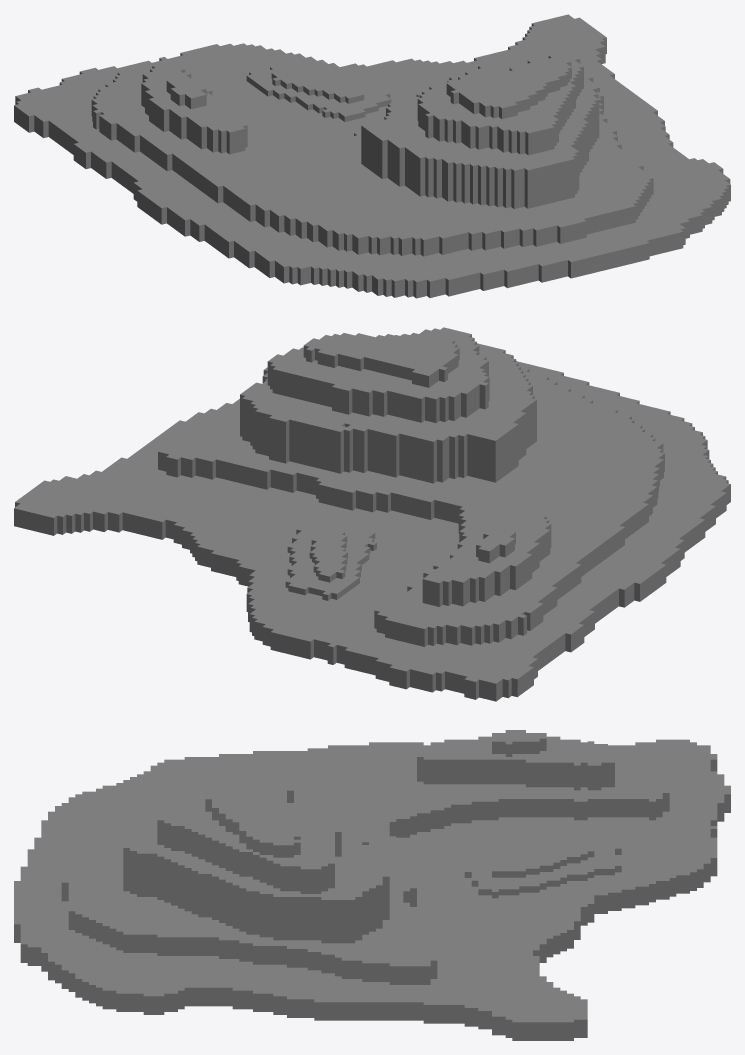
File: Main Island Landscape01.obj
3 views of the same model, one above another, from view 1: azimuth 30°, elevation 25°; view 2: azimuth 150°, elevation 25°; view 3: azimuth 270°, elevation 25° (orthographic). The views are drawn at different scales.
Visible parts, largest first — view 1: Main Island Landscape01; view 2: Main Island Landscape01; view 3: Main Island Landscape01.
Boxes of the visible parts, x1,y1,x2,y2 form: Main Island Landscape01: (14, 14, 730, 298); Main Island Landscape01: (14, 327, 730, 701); Main Island Landscape01: (14, 730, 730, 1040).
Size of the model in its own units: 98 by 19 by 105.
1 material, 1 textured.
